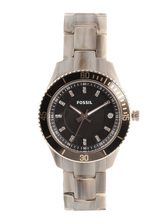watch: (39, 10, 143, 217)
